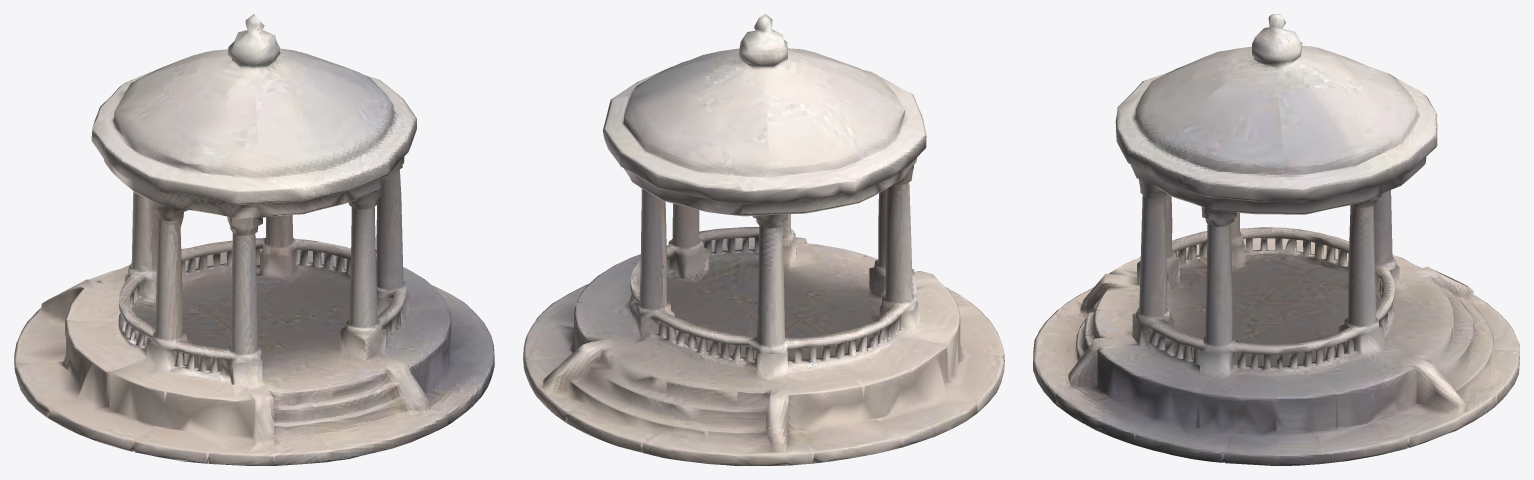
The model's file is gazebo.glb.
The picture shows the model from 3 angles, left to right: view 1: azimuth 30°, elevation 25°; view 2: azimuth 150°, elevation 25°; view 3: azimuth 270°, elevation 25°; orthographic projection.
Visible parts, largest first — view 1: tripo_node_01a21eca-36db-7bf8-9dea-f10ece7528a8; view 2: tripo_node_01a21eca-36db-7bf8-9dea-f10ece7528a8; view 3: tripo_node_01a21eca-36db-7bf8-9dea-f10ece7528a8.
Boxes of the visible parts, x1,y1,x2,y2 form: tripo_node_01a21eca-36db-7bf8-9dea-f10ece7528a8: (14, 14, 494, 465); tripo_node_01a21eca-36db-7bf8-9dea-f10ece7528a8: (523, 14, 1004, 465); tripo_node_01a21eca-36db-7bf8-9dea-f10ece7528a8: (1033, 14, 1519, 465).
Size of the model in its own units: 6.6 by 5.23 by 6.58.
Materials: 1 (1 with a texture image).
